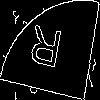R: (25, 24, 65, 77)
